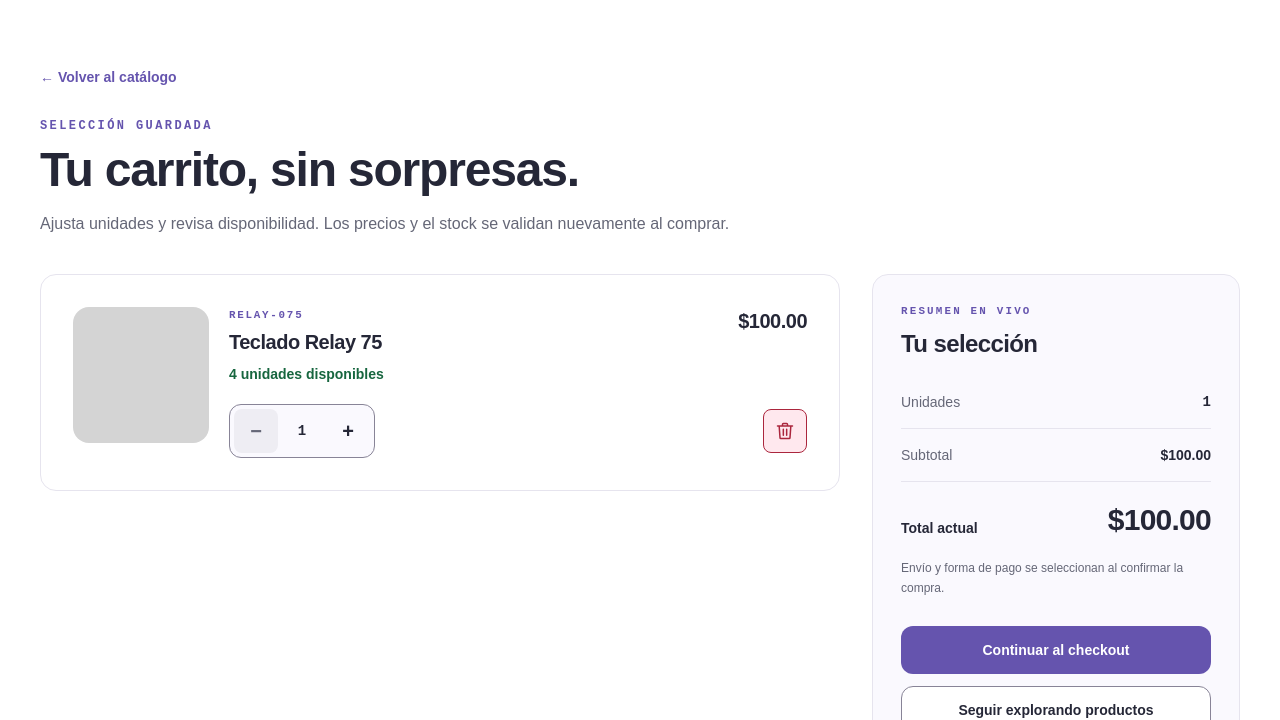
storefront cart › removes a confirmed line and renders the returned empty cart
The image size is (1280, 720).
What coordinates should you click on to do the following:
click the button named "Quitar Teclado Relay 75 del carrito"
I would click on:
 (785, 431)
Its box is [763,409,807,453].
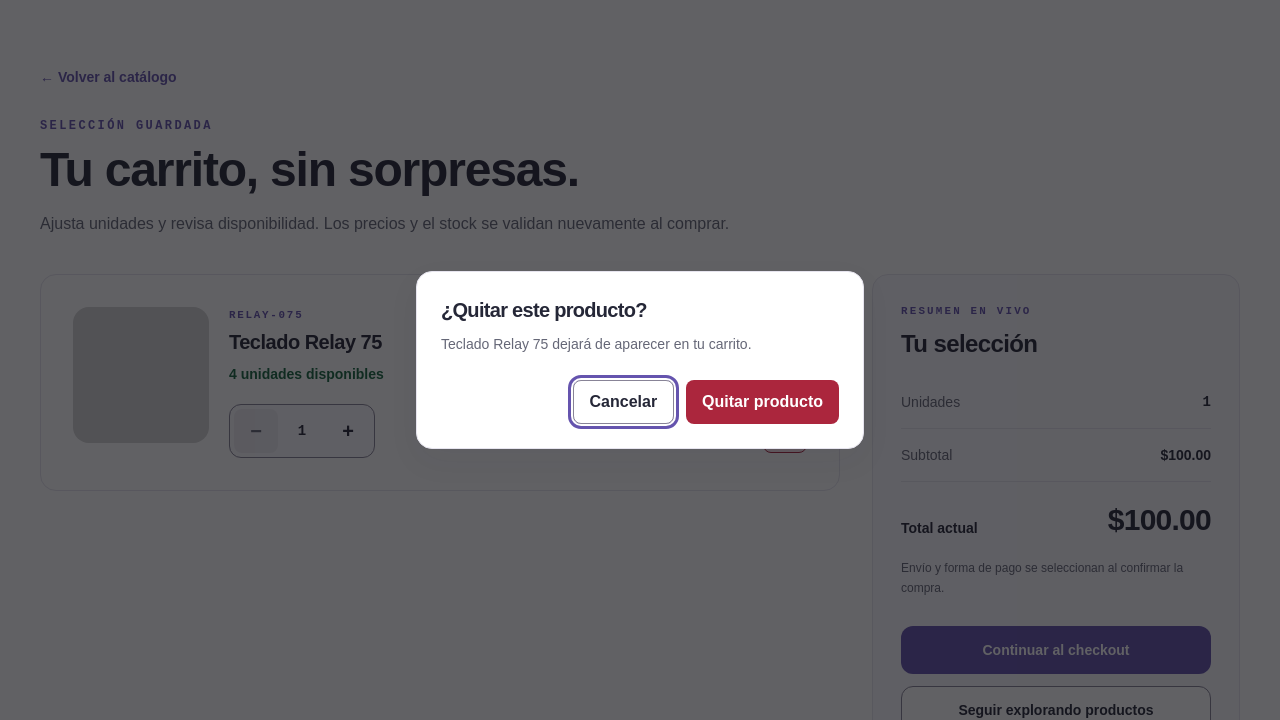
What coordinates should you click on to do the following:
click the button "Quitar producto"
I would click on:
 (763, 402)
Its box is [686,380,839,424].
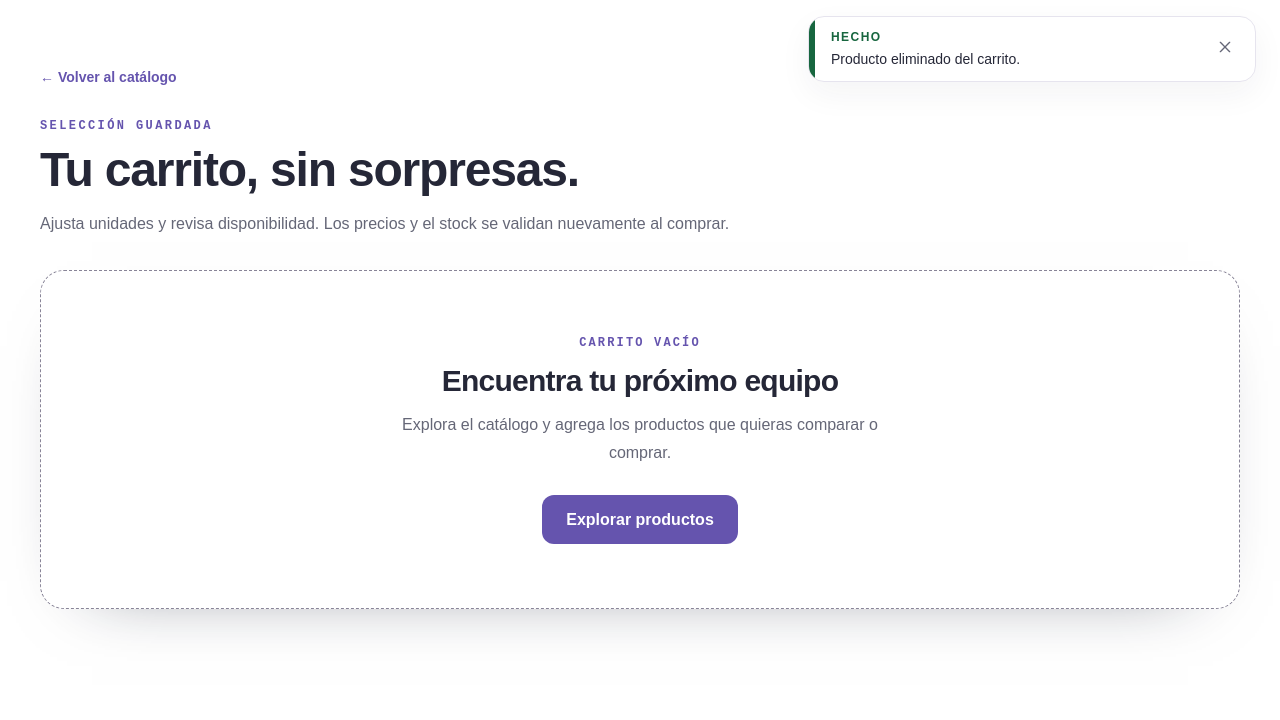
Expected: the heading "Encuentra tu próximo equipo" is shown, [442,364,838,397]
Expected: the text "Producto eliminado del carrito." is shown, [831,51,1020,67]
